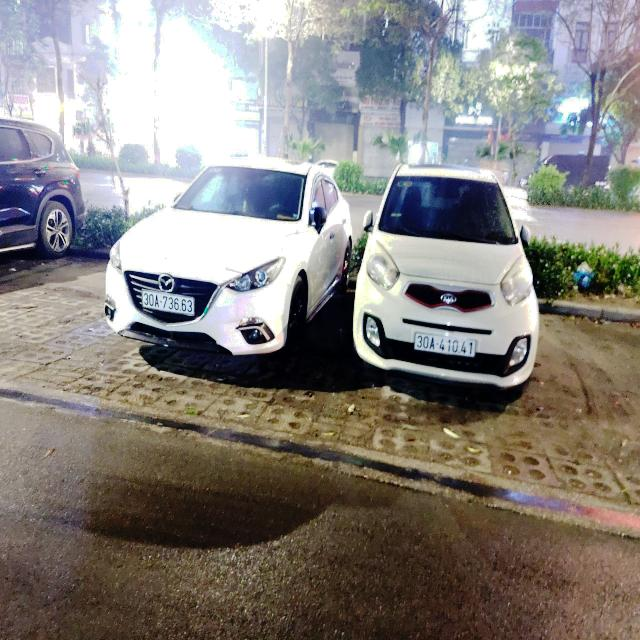license_plate: (414, 332, 478, 360), (142, 289, 196, 318)
